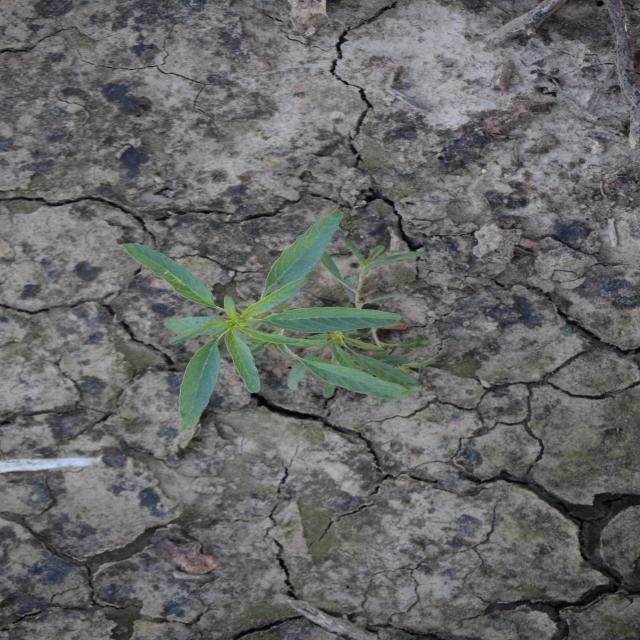Waterhemp: (116, 204, 443, 433)
